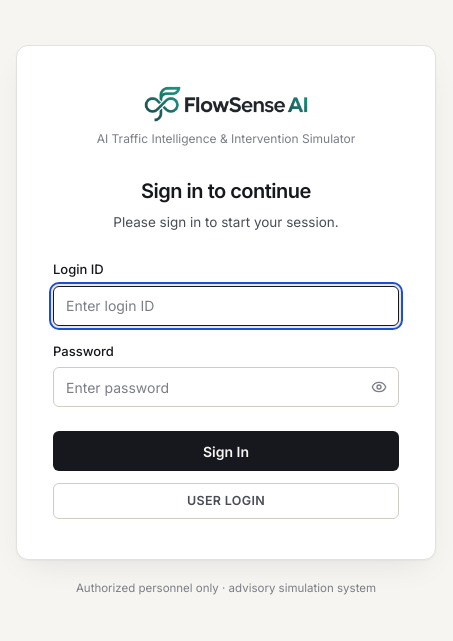
Scenario: login page › shows a retry message when the backend is unreachable
This screenshot has width=453, height=641.
Type "tgpolice" into the field labelled "Login ID" at [226, 306], box [53,286,399,326]
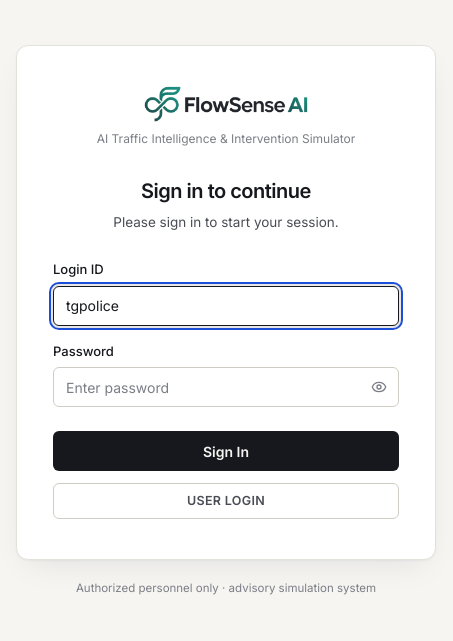
Type "tgpolice" into the password field labelled "Password" at [226, 387], box [53,367,399,407]
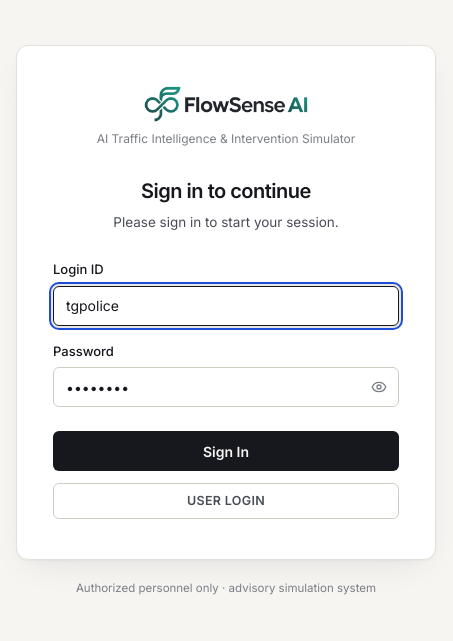
Click the button "Sign In" at [226, 451], box [53,431,399,471]
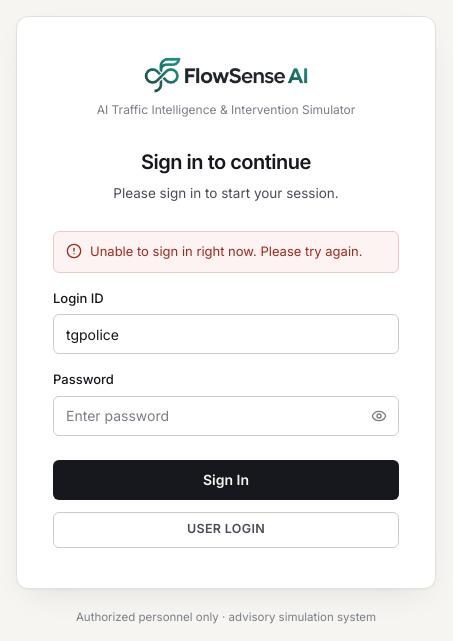
Result: the message reads "Unable to sign in right now. Please try again." at [90,243,362,259]
